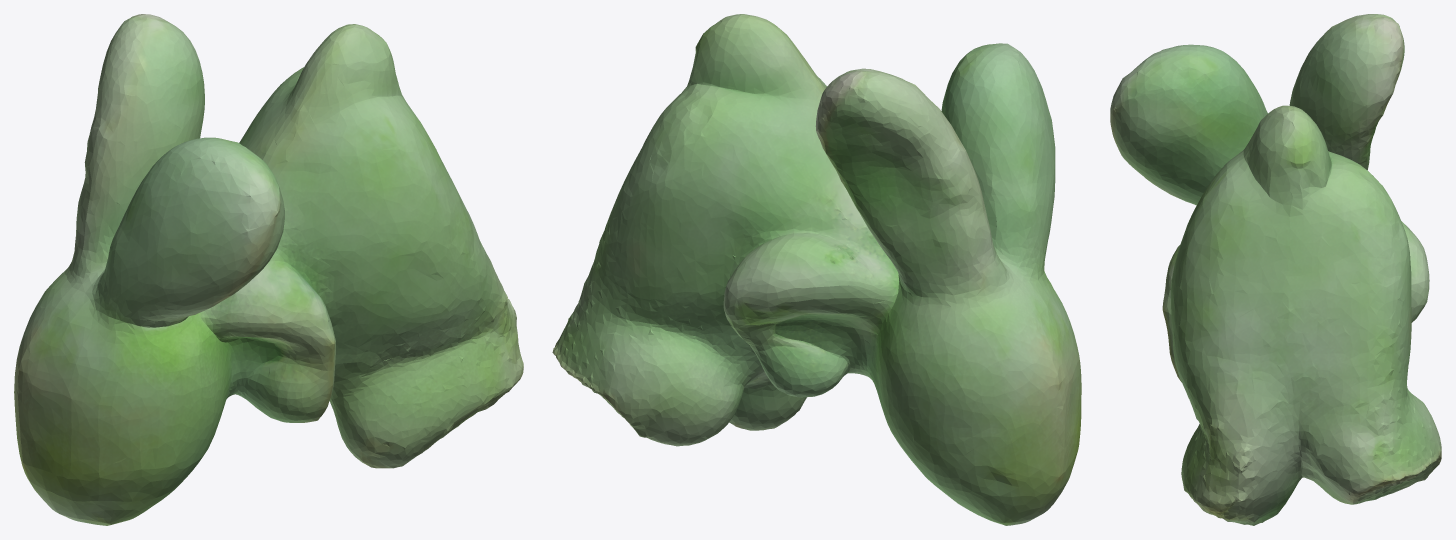
3 views of the same model, side by side, from view 1: azimuth 30°, elevation 25°; view 2: azimuth 150°, elevation 25°; view 3: azimuth 270°, elevation 25° (orthographic). The views are drawn at different scales.
Parts seen in each view (by area): view 1: world; view 2: world; view 3: world.
Part boxes in pixels (box(x1,y1,x2,y2)): world: box(14, 14, 523, 525); world: box(552, 14, 1081, 525); world: box(1110, 14, 1441, 525).
Size of the model in its own units: 0.9923 by 0.9099 by 0.6382.
Materials: 1 (1 with a texture image).
